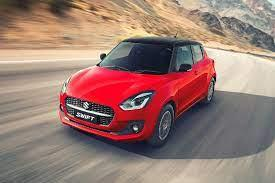Hatchback: (57, 35, 219, 147)
